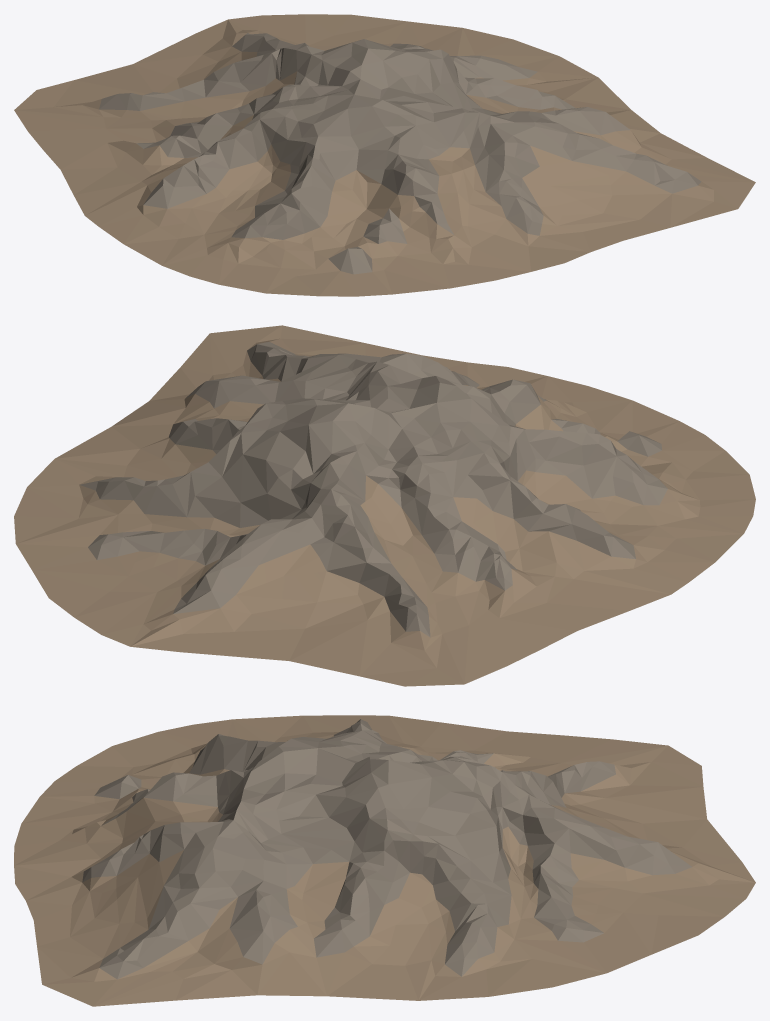
The model's file is SM_Env_Mountain_07.fbx.
3 views of the same model, one above another, from view 1: azimuth 30°, elevation 25°; view 2: azimuth 150°, elevation 25°; view 3: azimuth 270°, elevation 25° (orthographic). The views are drawn at different scales.
Visible parts, largest first — view 1: SM_Env_Mountain_07; view 2: SM_Env_Mountain_07; view 3: SM_Env_Mountain_07.
Part boxes in pixels (box(x1,y1,x2,y2)): SM_Env_Mountain_07: box(14, 14, 755, 296); SM_Env_Mountain_07: box(14, 325, 755, 686); SM_Env_Mountain_07: box(14, 715, 755, 1006).
Size of the model in its own units: 4757 by 830 by 5118.
